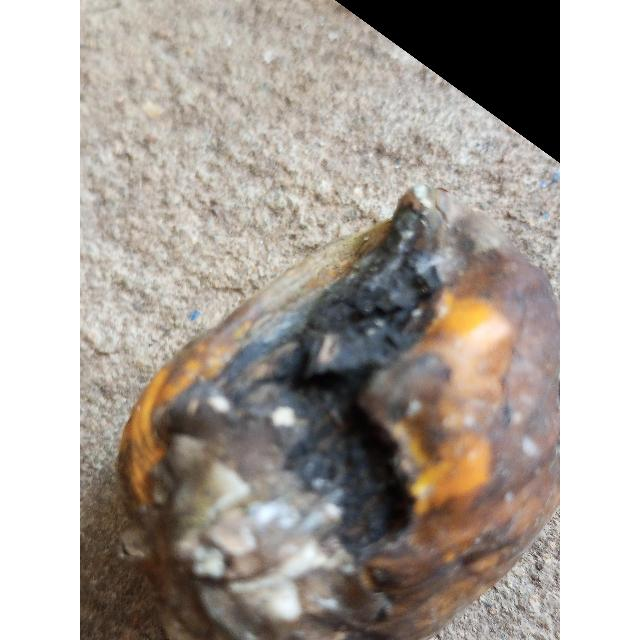damaged: (115, 190, 560, 640)
